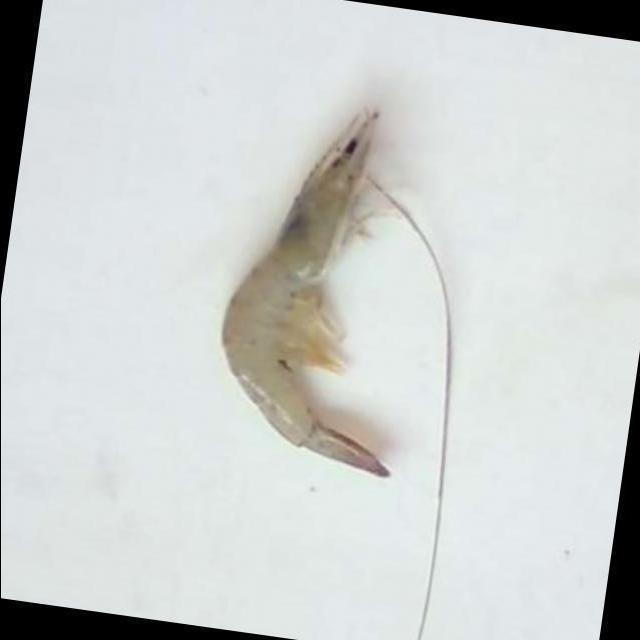shrimp: (221, 108, 388, 478)
